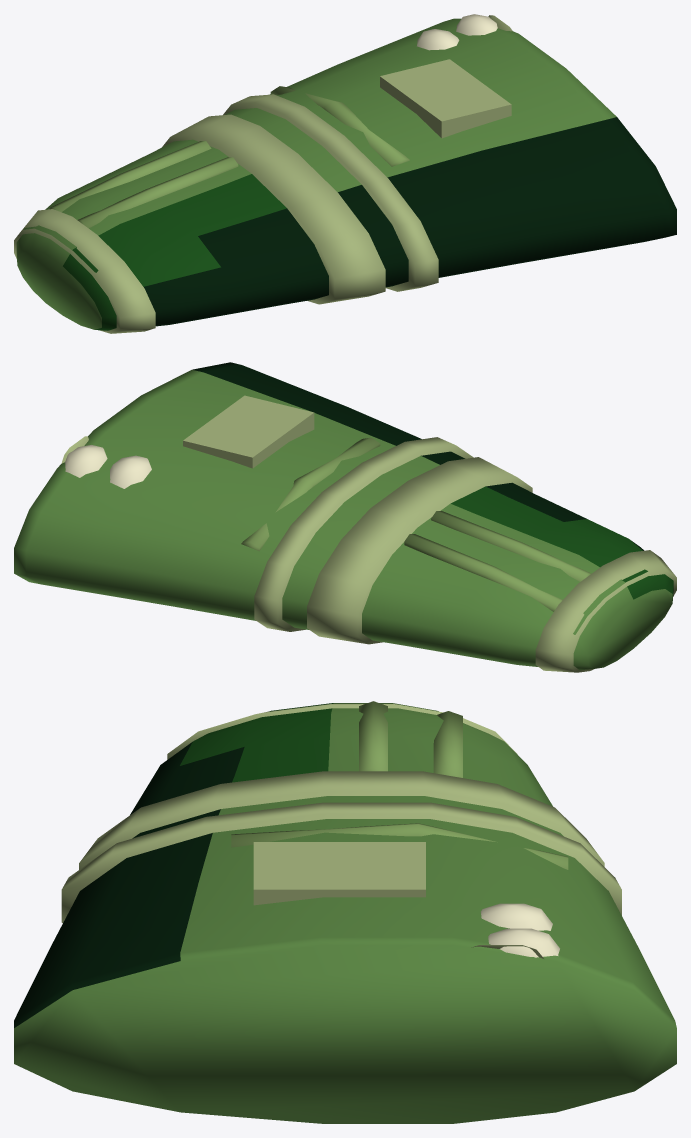
File: newshj-245.glb
3 views of the same model, one above another, from view 1: azimuth 30°, elevation 25°; view 2: azimuth 150°, elevation 25°; view 3: azimuth 270°, elevation 25° (orthographic). The views are drawn at different scales.
Parts seen in each view (by area): view 1: newshj-245; view 2: newshj-245; view 3: newshj-245.
Part boxes in pixels (x1=…): newshj-245: x1=14, y1=14, x2=676, y2=333; newshj-245: x1=14, y1=362, x2=676, y2=672; newshj-245: x1=14, y1=701, x2=676, y2=1123.
Bounding box in the file's own units: 1.78 × 0.4569 × 1.48.
